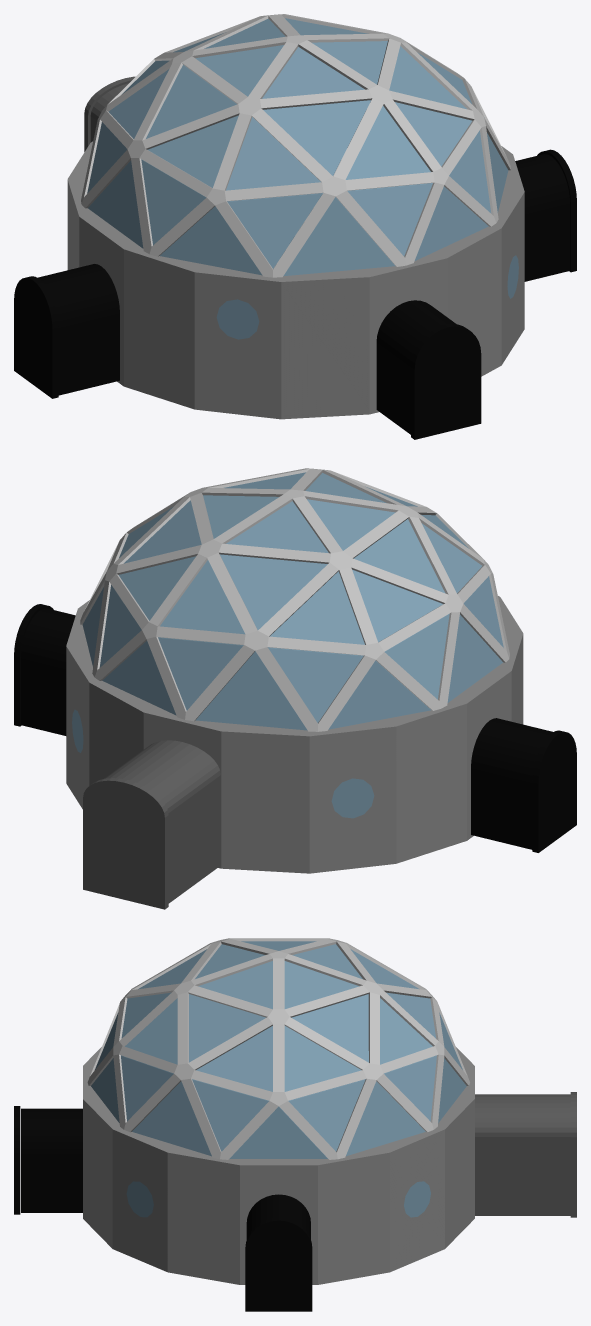
The model's file is hab interior test.fbx.
3 views of the same model, one above another, from view 1: azimuth 30°, elevation 25°; view 2: azimuth 150°, elevation 25°; view 3: azimuth 270°, elevation 25° (orthographic). The views are drawn at different scales.
Parts seen in each view (by area): view 1: dome glass, body, dome frame, connector.003, connector wall.002, connector.002, connector.001, connector wall.001, connector wall, airlock door 1, airlock; view 2: dome glass, body, dome frame, airlock door 1, airlock, connector.003, connector.002, connector wall.001, connector wall; view 3: body, dome glass, dome frame, airlock, connector.001, connector wall, connector.002, airlock door 1, connector wall.002.
Boxes of the visible parts, bbox=[...] form: dome glass: bbox=[87, 18, 508, 276]; body: bbox=[67, 141, 524, 419]; dome frame: bbox=[81, 14, 510, 277]; connector.003: bbox=[37, 264, 119, 395]; connector wall.002: bbox=[411, 324, 481, 439]; connector.002: bbox=[515, 154, 569, 281]; connector.001: bbox=[376, 300, 456, 434]; connector wall.001: bbox=[14, 276, 58, 398]; connector wall: bbox=[537, 149, 576, 272]; airlock door 1: bbox=[84, 76, 135, 151]; airlock: bbox=[90, 83, 128, 142]; dome glass: bbox=[82, 472, 503, 730]; body: bbox=[66, 596, 523, 873]; dome frame: bbox=[80, 468, 509, 731]; airlock door 1: bbox=[83, 778, 168, 909]; airlock: bbox=[104, 740, 220, 903]; connector.003: bbox=[471, 718, 552, 849]; connector.002: bbox=[21, 608, 75, 735]; connector wall.001: bbox=[532, 730, 576, 852]; connector wall: bbox=[14, 604, 53, 726]; body: bbox=[83, 1047, 474, 1284]; dome glass: bbox=[91, 941, 466, 1158]; dome frame: bbox=[87, 938, 469, 1159]; airlock: bbox=[475, 1094, 570, 1215]; connector.001: bbox=[21, 1108, 82, 1212]; connector wall: bbox=[245, 1218, 312, 1311]; connector.002: bbox=[246, 1194, 310, 1239]; airlock door 1: bbox=[570, 1092, 576, 1217]; connector wall.002: bbox=[14, 1106, 20, 1214].
Size of the model in its own units: 820 by 423 by 873.
